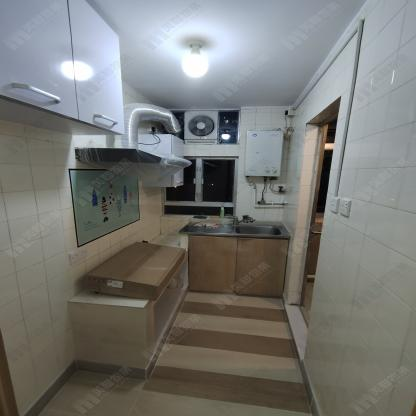Cupboard: (188, 236, 291, 299)
Exhaust Hood: (76, 146, 188, 169)
Faucet: (227, 214, 256, 225)
Sink: (226, 223, 289, 238), (232, 223, 278, 236)
